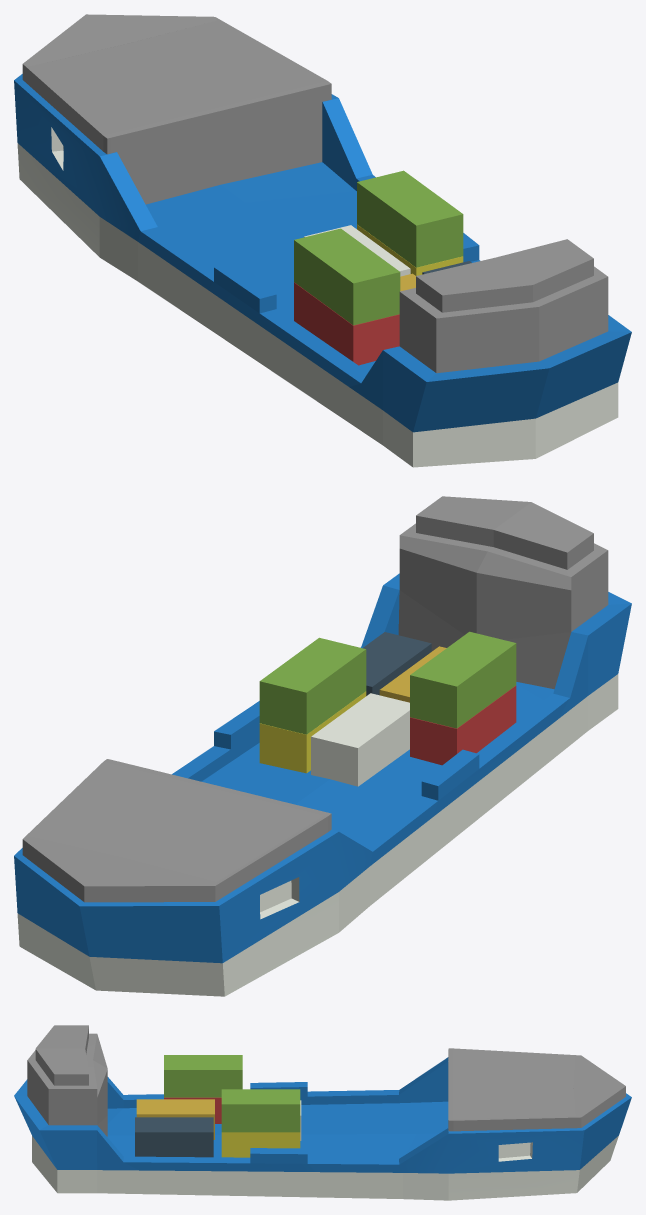
Rendered from freighter_var2_model.fbx.
3 renders of one model, top to bottom at view 1: azimuth 30°, elevation 25°; view 2: azimuth 150°, elevation 25°; view 3: azimuth 270°, elevation 25°, orthographic. The views are drawn at different scales.
Parts seen in each view (by area): view 1: polySurface4; view 2: polySurface4; view 3: polySurface4.
Part boxes in pixels (x1,y1,x2,y2): polySurface4: [14, 14, 631, 467]; polySurface4: [14, 496, 631, 996]; polySurface4: [14, 1025, 631, 1200].
Size of the model in its own units: 7.13 by 4.91 by 24.16.
Materials: 1 (1 with a texture image).
